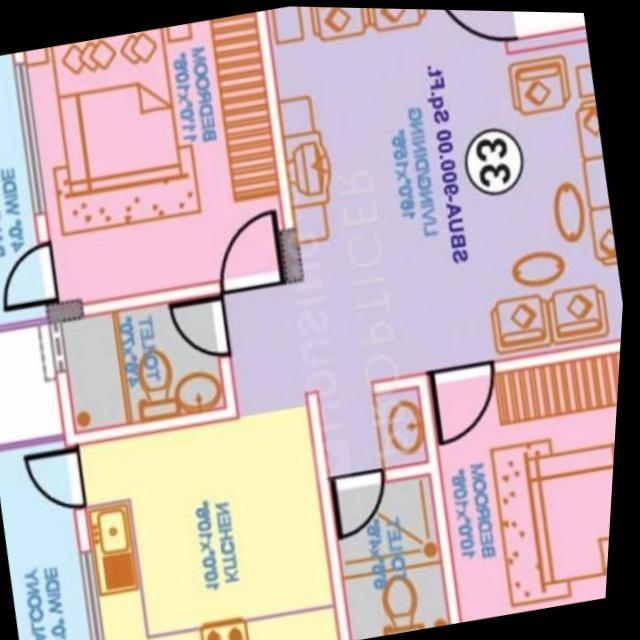Balcony-Sitout: (0, 431, 106, 640), (0, 52, 61, 334)
Bedroom: (14, 9, 304, 322), (428, 334, 625, 621)
Kitchen: (72, 396, 353, 640)
Living: (264, 5, 627, 397)
Toilet: (313, 371, 463, 640), (52, 279, 239, 443)
